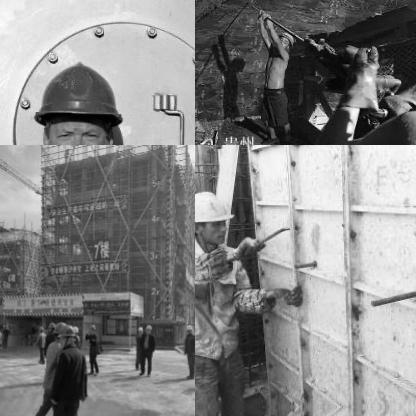Helmet: (19, 44, 132, 144), (195, 186, 234, 247), (275, 28, 293, 50), (57, 324, 73, 346), (52, 321, 64, 341), (183, 322, 193, 334), (86, 322, 96, 334), (142, 324, 152, 334), (46, 320, 54, 332), (36, 324, 44, 334), (135, 325, 142, 335)
